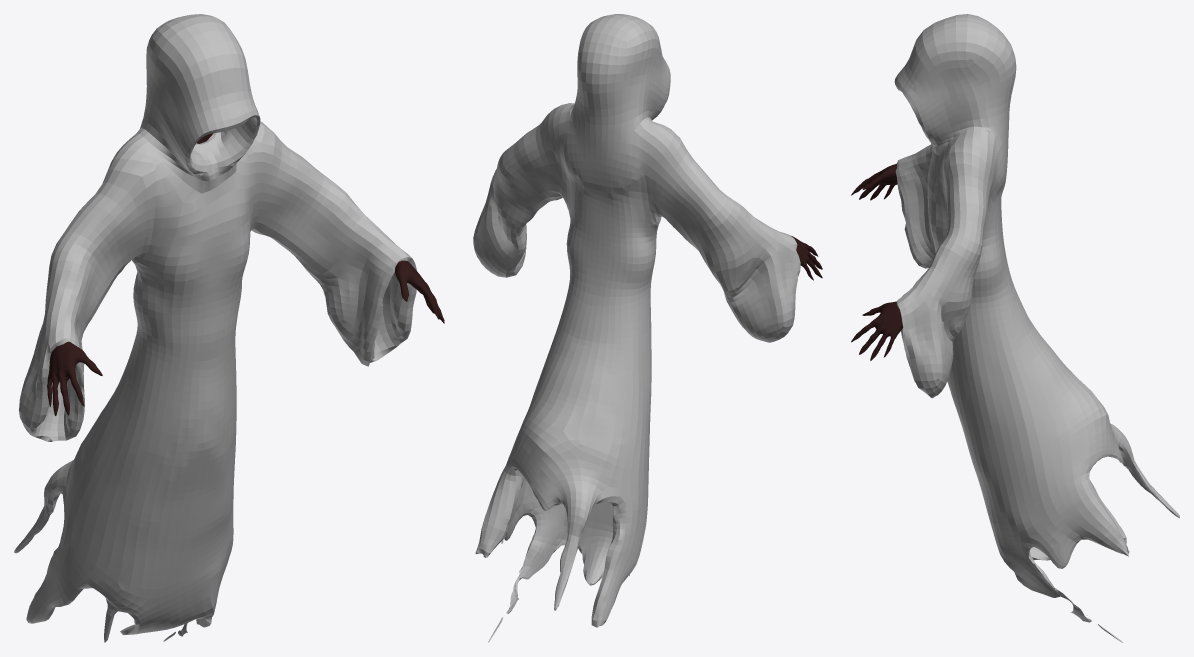
File: FantasmaObscuro_ENEMY.fbx
3 renders of one model, left to right at view 1: azimuth 30°, elevation 25°; view 2: azimuth 150°, elevation 25°; view 3: azimuth 270°, elevation 25°, orthographic. The views are drawn at different scales.
Parts seen in each view (by area): view 1: MantoNegro_MESH, FantasmaObscuro_MESH; view 2: MantoNegro_MESH, FantasmaObscuro_MESH; view 3: MantoNegro_MESH, FantasmaObscuro_MESH.
Part boxes in pixels (x1,y1,x2,y2): MantoNegro_MESH: (14,14,416,642); FantasmaObscuro_MESH: (47,133,444,415); MantoNegro_MESH: (473,14,800,642); FantasmaObscuro_MESH: (790,235,822,280); MantoNegro_MESH: (894,14,1179,642); FantasmaObscuro_MESH: (851,163,903,360).
Bounding box in the file's own units: 107 × 185 × 92.17.
